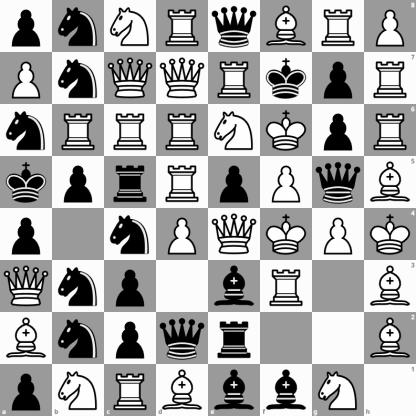B: (156, 364, 209, 416), (364, 156, 416, 209), (364, 260, 416, 312), (364, 312, 416, 364), (1, 313, 52, 364), (261, 1, 312, 52)
K: (364, 209, 416, 260), (261, 105, 312, 156), (261, 209, 312, 260)
N: (52, 364, 104, 416), (312, 364, 364, 416), (105, 1, 156, 52), (209, 105, 260, 156)
P: (364, 0, 416, 52), (1, 53, 52, 104), (157, 209, 208, 260), (261, 157, 312, 208), (313, 209, 364, 260)
Q: (1, 261, 52, 312), (105, 53, 156, 104), (157, 53, 208, 104), (209, 209, 260, 260)
R: (104, 364, 156, 416), (364, 52, 416, 104), (364, 104, 416, 156), (53, 105, 104, 156), (105, 105, 156, 156), (157, 1, 208, 52), (157, 105, 208, 156), (157, 157, 208, 208), (209, 53, 260, 104), (261, 261, 312, 312), (313, 1, 364, 52)
b: (260, 364, 312, 416), (209, 364, 260, 416), (209, 261, 260, 312)
board: (0, 0, 415, 415)
k: (1, 157, 52, 208), (261, 53, 312, 104)
n: (1, 105, 52, 156), (53, 1, 104, 52), (53, 53, 104, 104), (53, 261, 104, 312), (53, 313, 104, 364), (105, 209, 156, 260)
p: (0, 364, 52, 416), (1, 1, 52, 52), (1, 209, 52, 260), (53, 157, 104, 208), (105, 261, 156, 312), (105, 313, 156, 364), (209, 157, 260, 208), (313, 53, 364, 104), (313, 105, 364, 156)
q: (157, 313, 208, 364), (209, 1, 260, 52), (313, 157, 364, 208)
r: (105, 157, 156, 208), (209, 313, 260, 364)
